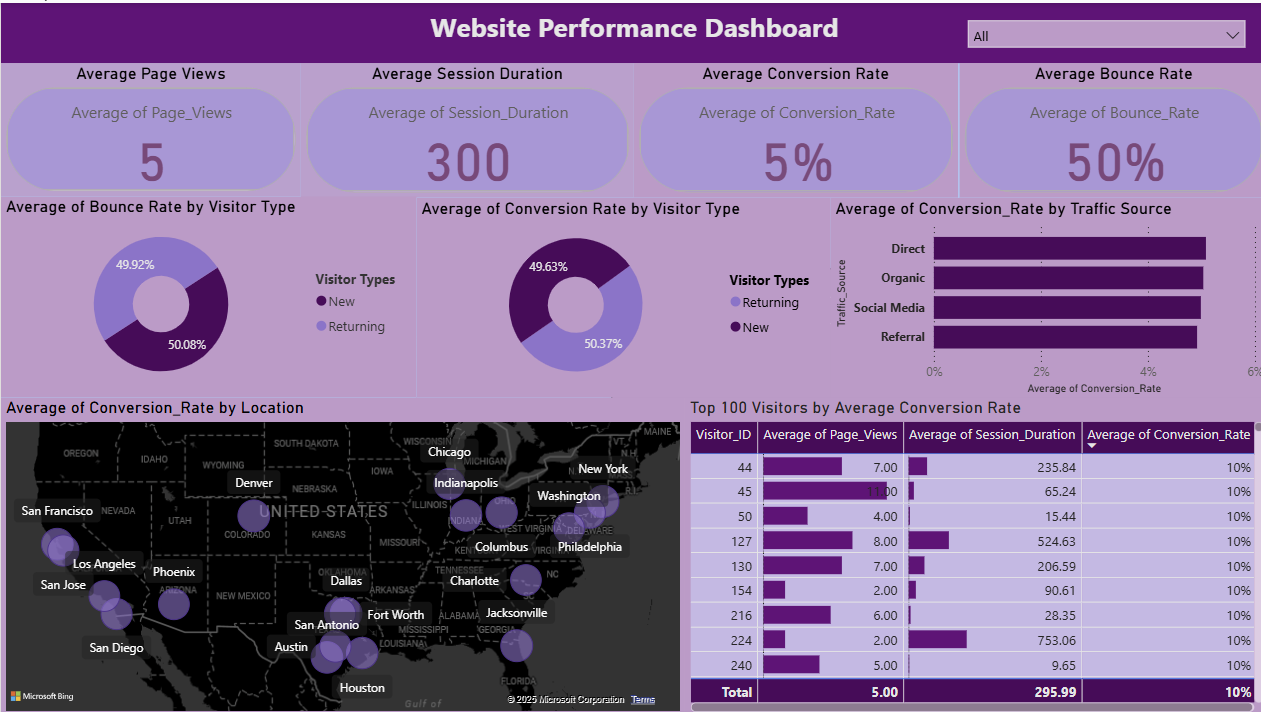

This screenshot's page, from the dashboard's own definition file:
{"tool":"powerbi","page":{"name":"Page 1","canvas":[1280,720],"ordinal":0},"visuals":[{"type":"textbox","box":[0,0,1279.5,60.6],"z":0},{"type":"slicer","fields":{"Values":["website_performance_analytics (1).Exit_Pages"]},"box":[616.3,268,442.1,151.4],"z":1000},{"type":"cardVisual","title":"Average Page Views","fields":{"Data":["Avg(website_performance_analytics (1).Page_Views)"]},"box":[0,60.6,302.8,134.8],"z":2000},{"type":"cardVisual","title":"Average Session Duration","fields":{"Data":["Avg(website_performance_analytics (1).Session_Duration)"]},"box":[302.8,60.6,336.2,136.3],"z":3000},{"type":"cardVisual","title":"Average Conversion Rate","fields":{"Data":["Avg(website_performance_analytics (1).Conversion_Rate)"]},"box":[639,60.6,327.1,136.3],"z":4000},{"type":"cardVisual","title":"Average Bounce Rate","fields":{"Data":["Avg(website_performance_analytics (1).Bounce_Rate)"]},"box":[967.6,60.6,311.9,136.3],"z":5000},{"type":"donutChart","title":"Average of Bounce Rate by Visitor Type","fields":{"Category":["website_performance_analytics (1).Visitor_Type"],"Y":["Avg(website_performance_analytics (1).Bounce_Rate)"]},"box":[0,195.3,419.4,202.9],"z":6000},{"type":"donutChart","title":"Average of Conversion Rate by Visitor Type","fields":{"Y":["Avg(website_performance_analytics (1).Conversion_Rate)"],"Category":["website_performance_analytics (1).Visitor_Type"]},"box":[419.4,196.8,417.9,201.4],"z":7000},{"type":"barChart","title":"Average of Conversion_Rate by Traffic Source","fields":{"Category":["website_performance_analytics (1).Traffic_Source"],"Y":["Avg(website_performance_analytics (1).Conversion_Rate)"]},"box":[837.4,196.8,442.1,202.9],"z":8000},{"type":"map","fields":{"Category":["website_performance_analytics (1).Location"],"Size":["Avg(website_performance_analytics (1).Conversion_Rate)"]},"box":[0,398.7,689.8,321.3],"z":9000},{"type":"tableEx","title":"Top 100 Visitors by Average Conversion Rate","fields":{"Values":["website_performance_analytics (1).Visitor_ID","Avg(website_performance_analytics (1).Page_Views)","Avg(website_performance_analytics (1).Session_Duration)","Avg(website_performance_analytics (1).Conversion_Rate)"]},"box":[690,397.9,589,322.1],"z":10000},{"type":"slicer","fields":{"Values":["website_performance_analytics (1).Exit_Pages"]},"box":[966.1,7.6,299.8,45.4],"z":11000}]}

Visuals, with their boxes in screenshot pixels (x1, y1, x2, y2), scaled from the page's 1280x720 canvas onto the 1261x712 screenshot:
textbox: detection(0, 0, 1260, 60)
slicer - website_performance_analytics (1).Exit_Pages: detection(607, 265, 1043, 415)
"Average Page Views" cardVisual: detection(0, 60, 298, 193)
"Average Session Duration" cardVisual: detection(298, 60, 630, 195)
"Average Conversion Rate" cardVisual: detection(630, 60, 952, 195)
"Average Bounce Rate" cardVisual: detection(953, 60, 1260, 195)
"Average of Bounce Rate by Visitor Type" donutChart: detection(0, 193, 413, 394)
"Average of Conversion Rate by Visitor Type" donutChart: detection(413, 195, 825, 394)
"Average of Conversion_Rate by Traffic Source" barChart: detection(825, 195, 1260, 395)
map - website_performance_analytics (1).Location x Avg(website_performance_analytics (1).Conversion_Rate): detection(0, 394, 680, 711)
"Top 100 Visitors by Average Conversion Rate" tableEx: detection(680, 393, 1260, 711)
slicer - website_performance_analytics (1).Exit_Pages: detection(952, 8, 1247, 52)
